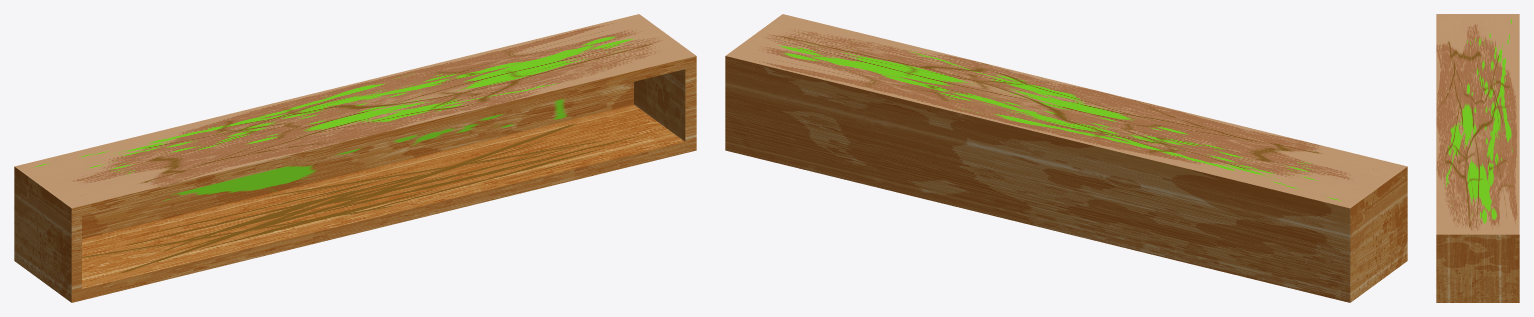
The model's file is Counter3.fbx.
The picture shows the model from 3 angles, left to right: view 1: azimuth 30°, elevation 25°; view 2: azimuth 150°, elevation 25°; view 3: azimuth 270°, elevation 25°; orthographic projection. The views are drawn at different scales.
Visible parts, largest first — view 1: Counter 3; view 2: Counter 3; view 3: Counter 3.
Part boxes in pixels (x1=…): Counter 3: x1=14, y1=14, x2=696, y2=302; Counter 3: x1=725, y1=14, x2=1407, y2=302; Counter 3: x1=1436, y1=14, x2=1519, y2=302.
Bounding box in the file's own units: 692 × 100 × 110.
